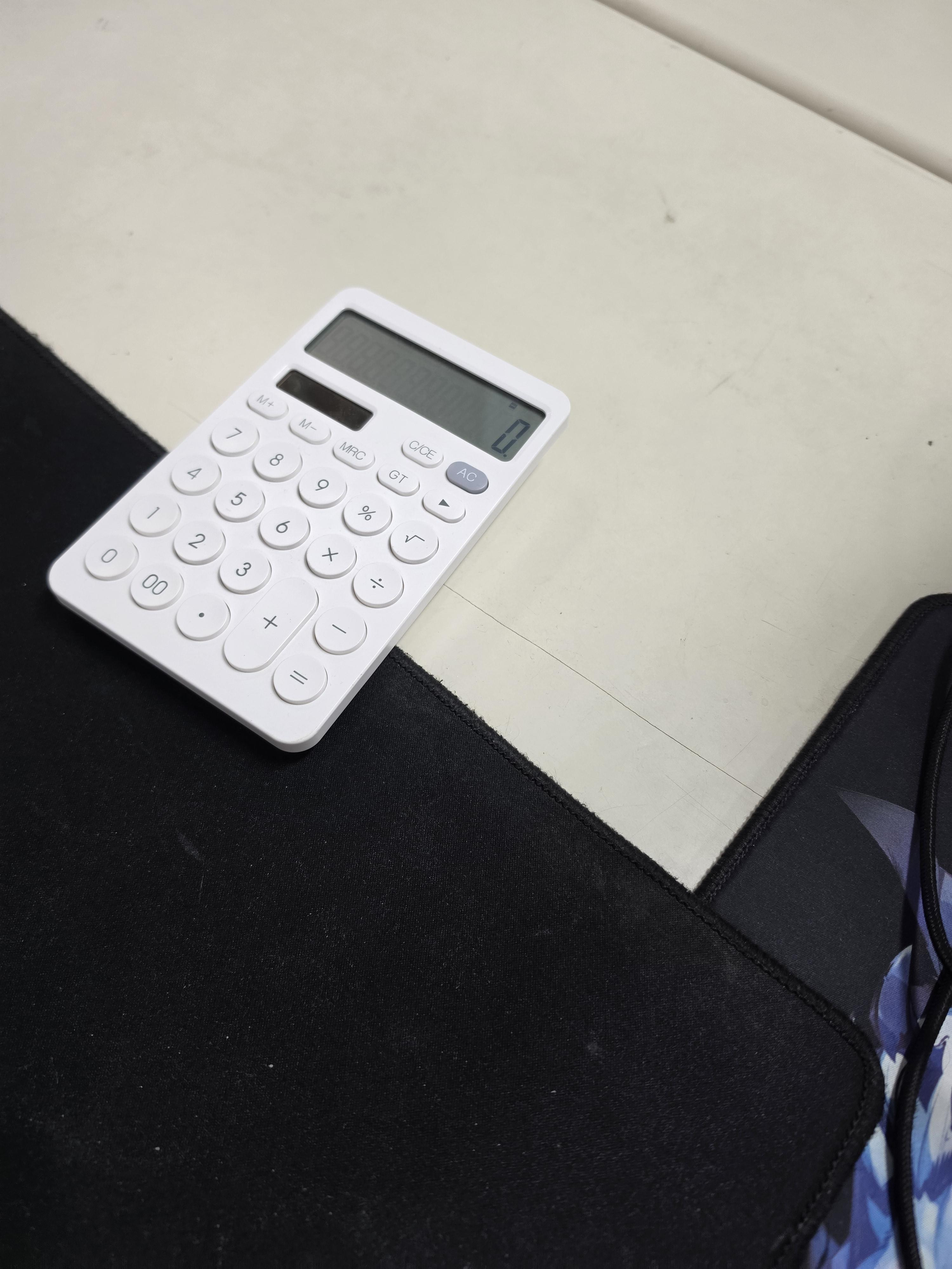calculator: (46, 287, 571, 752)
